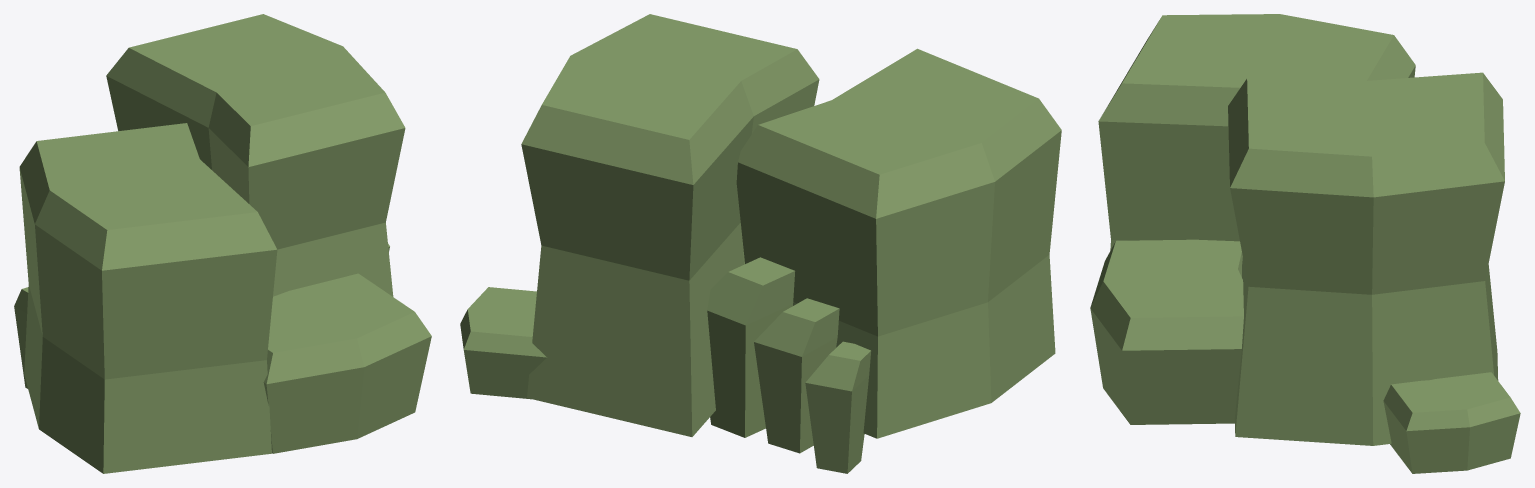
File: brigesRock_Type6_01_mesh_001.fbx
3 renders of one model, left to right at view 1: azimuth 30°, elevation 25°; view 2: azimuth 150°, elevation 25°; view 3: azimuth 270°, elevation 25°, orthographic. The views are drawn at different scales.
Visible parts, largest first — view 1: Rock Type6 01 mesh.001; view 2: Rock Type6 01 mesh.001; view 3: Rock Type6 01 mesh.001.
Part boxes in pixels (x1=…): Rock Type6 01 mesh.001: x1=14, y1=14, x2=431, y2=473; Rock Type6 01 mesh.001: x1=460, y1=14, x2=1061, y2=473; Rock Type6 01 mesh.001: x1=1090, y1=14, x2=1520, y2=473.
Bounding box in the file's own units: 173 × 117 × 146.
